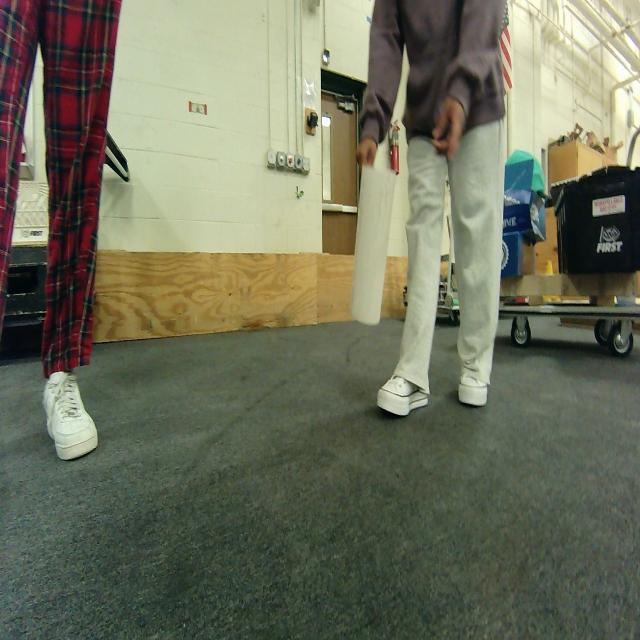coral: (351, 160, 398, 325)
